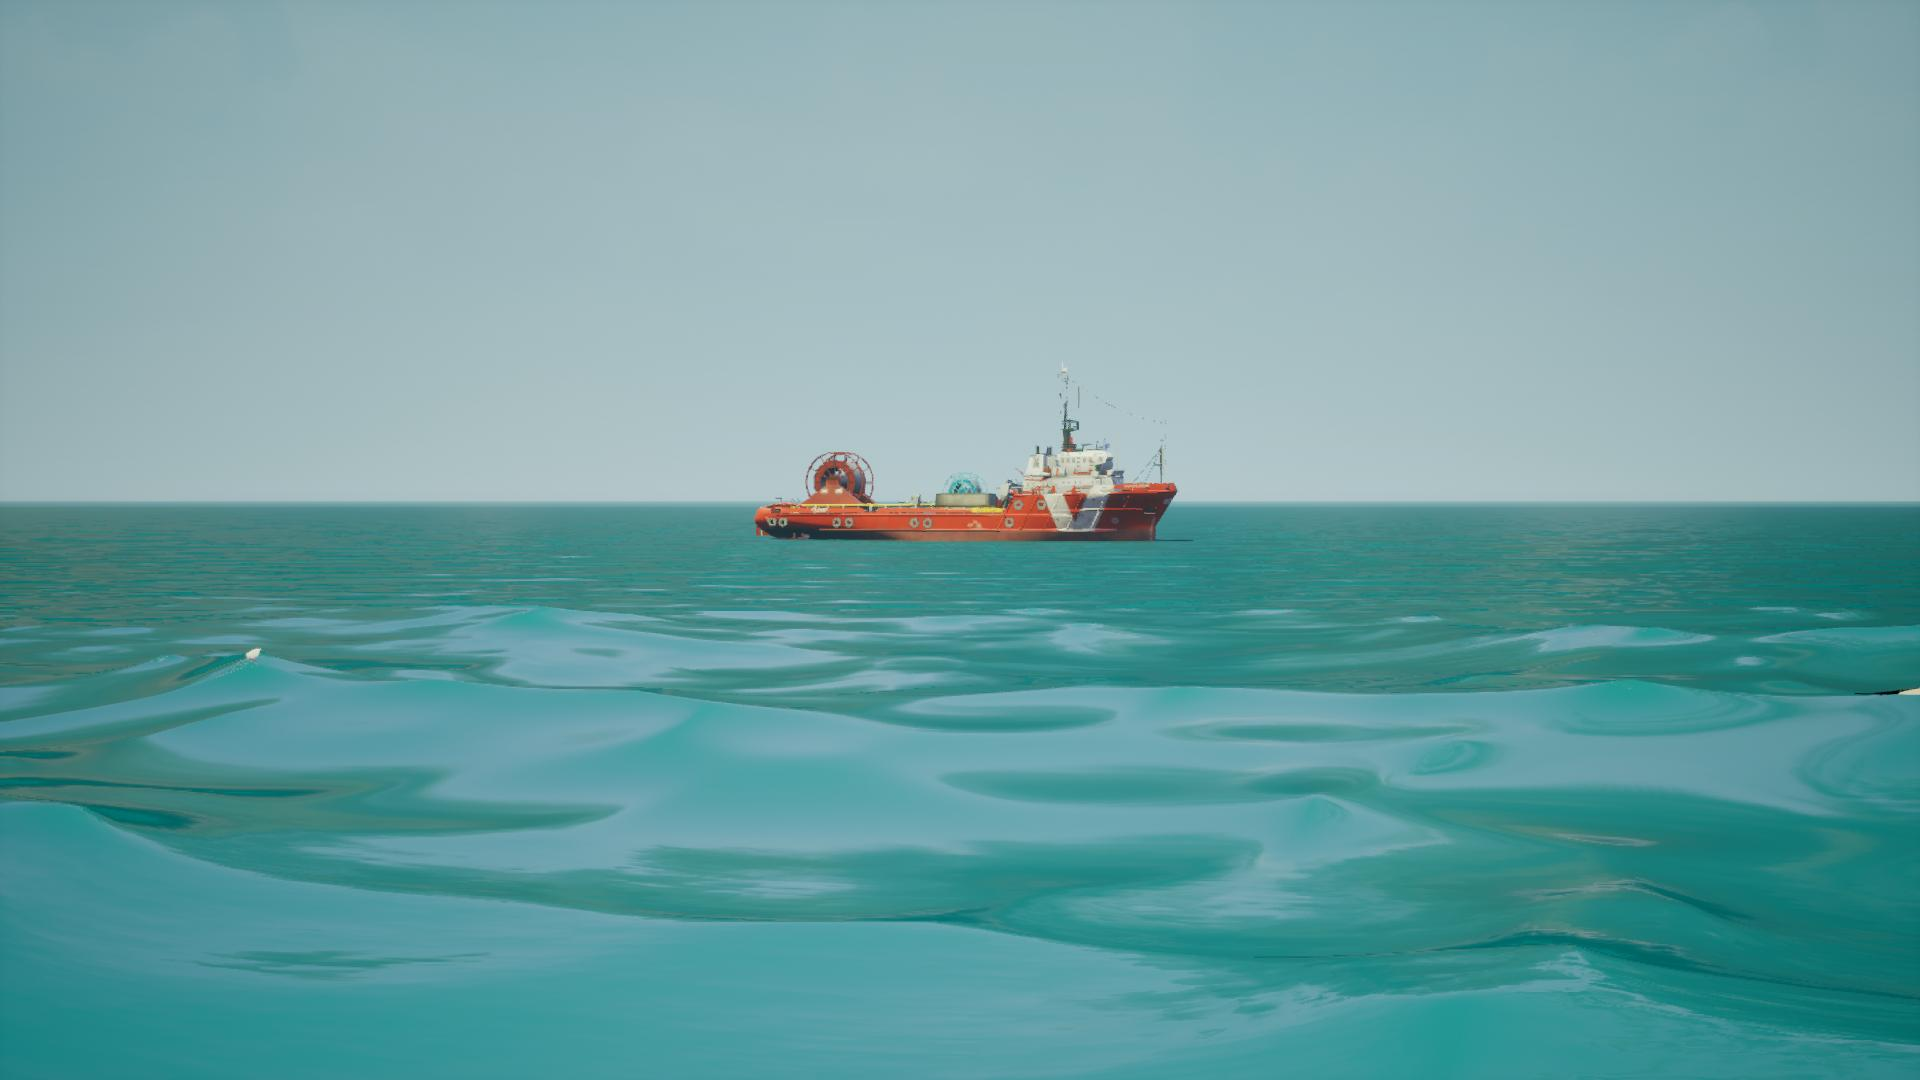Tug Boat: (757, 364, 1183, 545)
